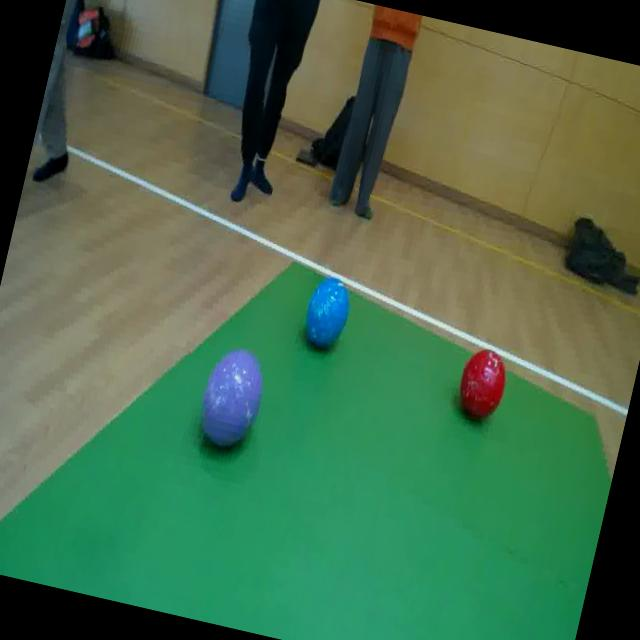blue_ball: (296, 274, 354, 356)
purple_ball: (190, 344, 272, 460)
red_ball: (449, 338, 519, 432)
